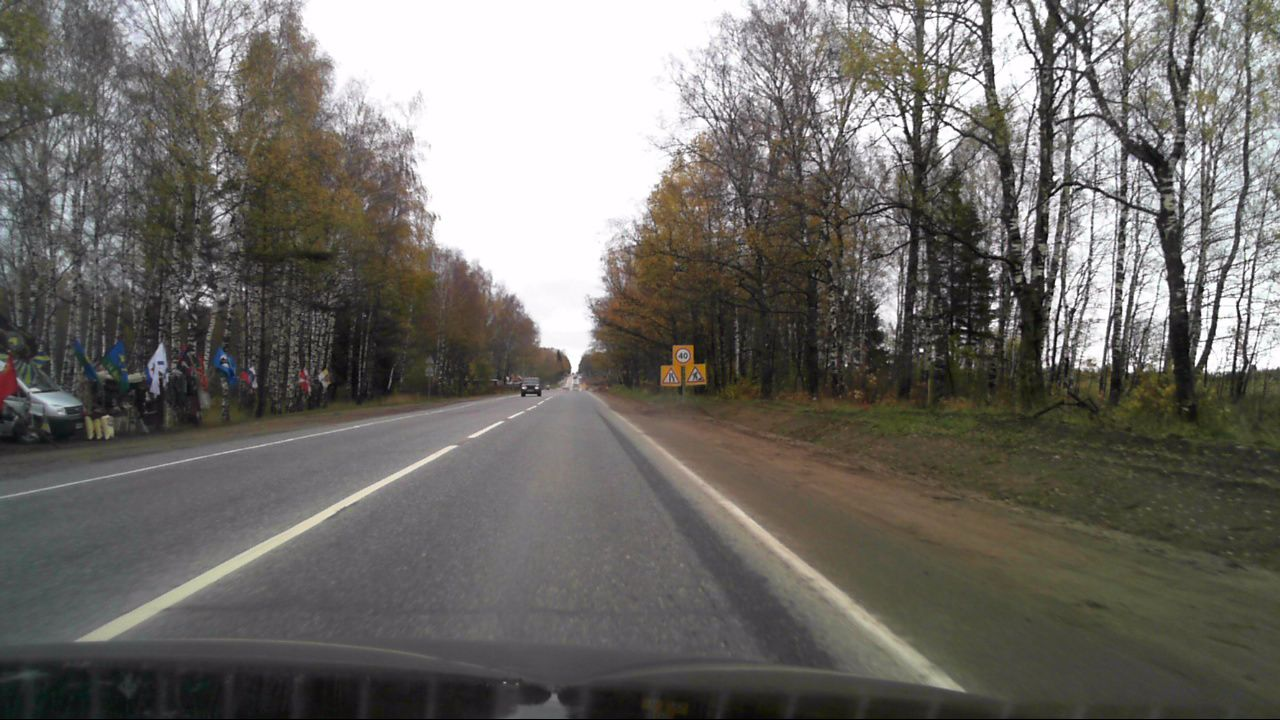speed_warning_40: (672, 344, 693, 365)
